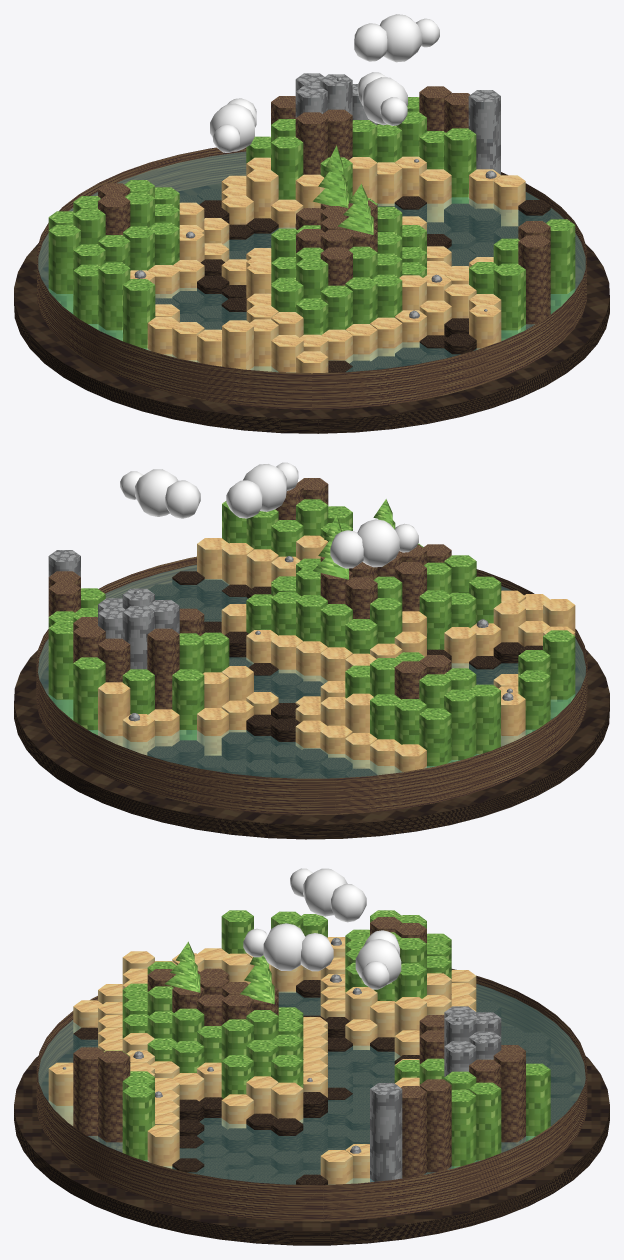
Rendered from map.gltf.
The picture shows the model from 3 angles, top to bottom: view 1: azimuth 30°, elevation 25°; view 2: azimuth 150°, elevation 25°; view 3: azimuth 270°, elevation 25°; orthographic projection.
Bounding box in the file's own units: 36.93 × 16.26 × 37.
9 materials, 7 textured.
